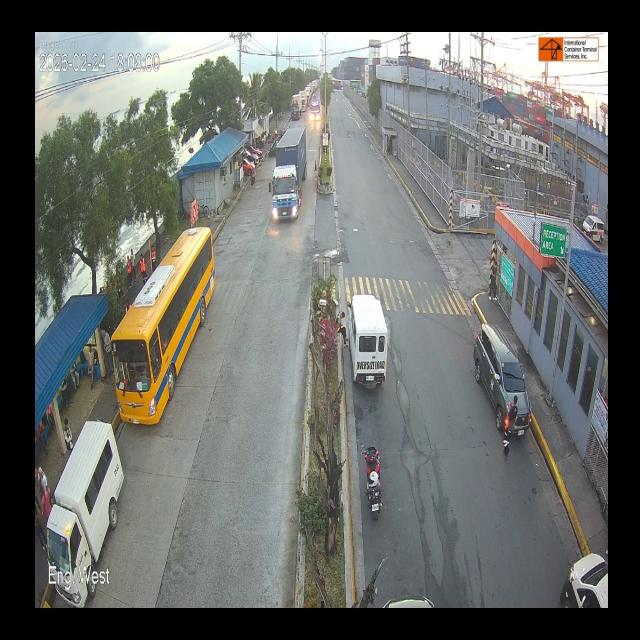bus: (109, 217, 220, 444)
car: (39, 445, 127, 577), (482, 317, 532, 439)
motorcycle: (351, 291, 387, 398), (362, 431, 401, 525)
truck: (270, 113, 312, 226), (291, 100, 301, 124)
